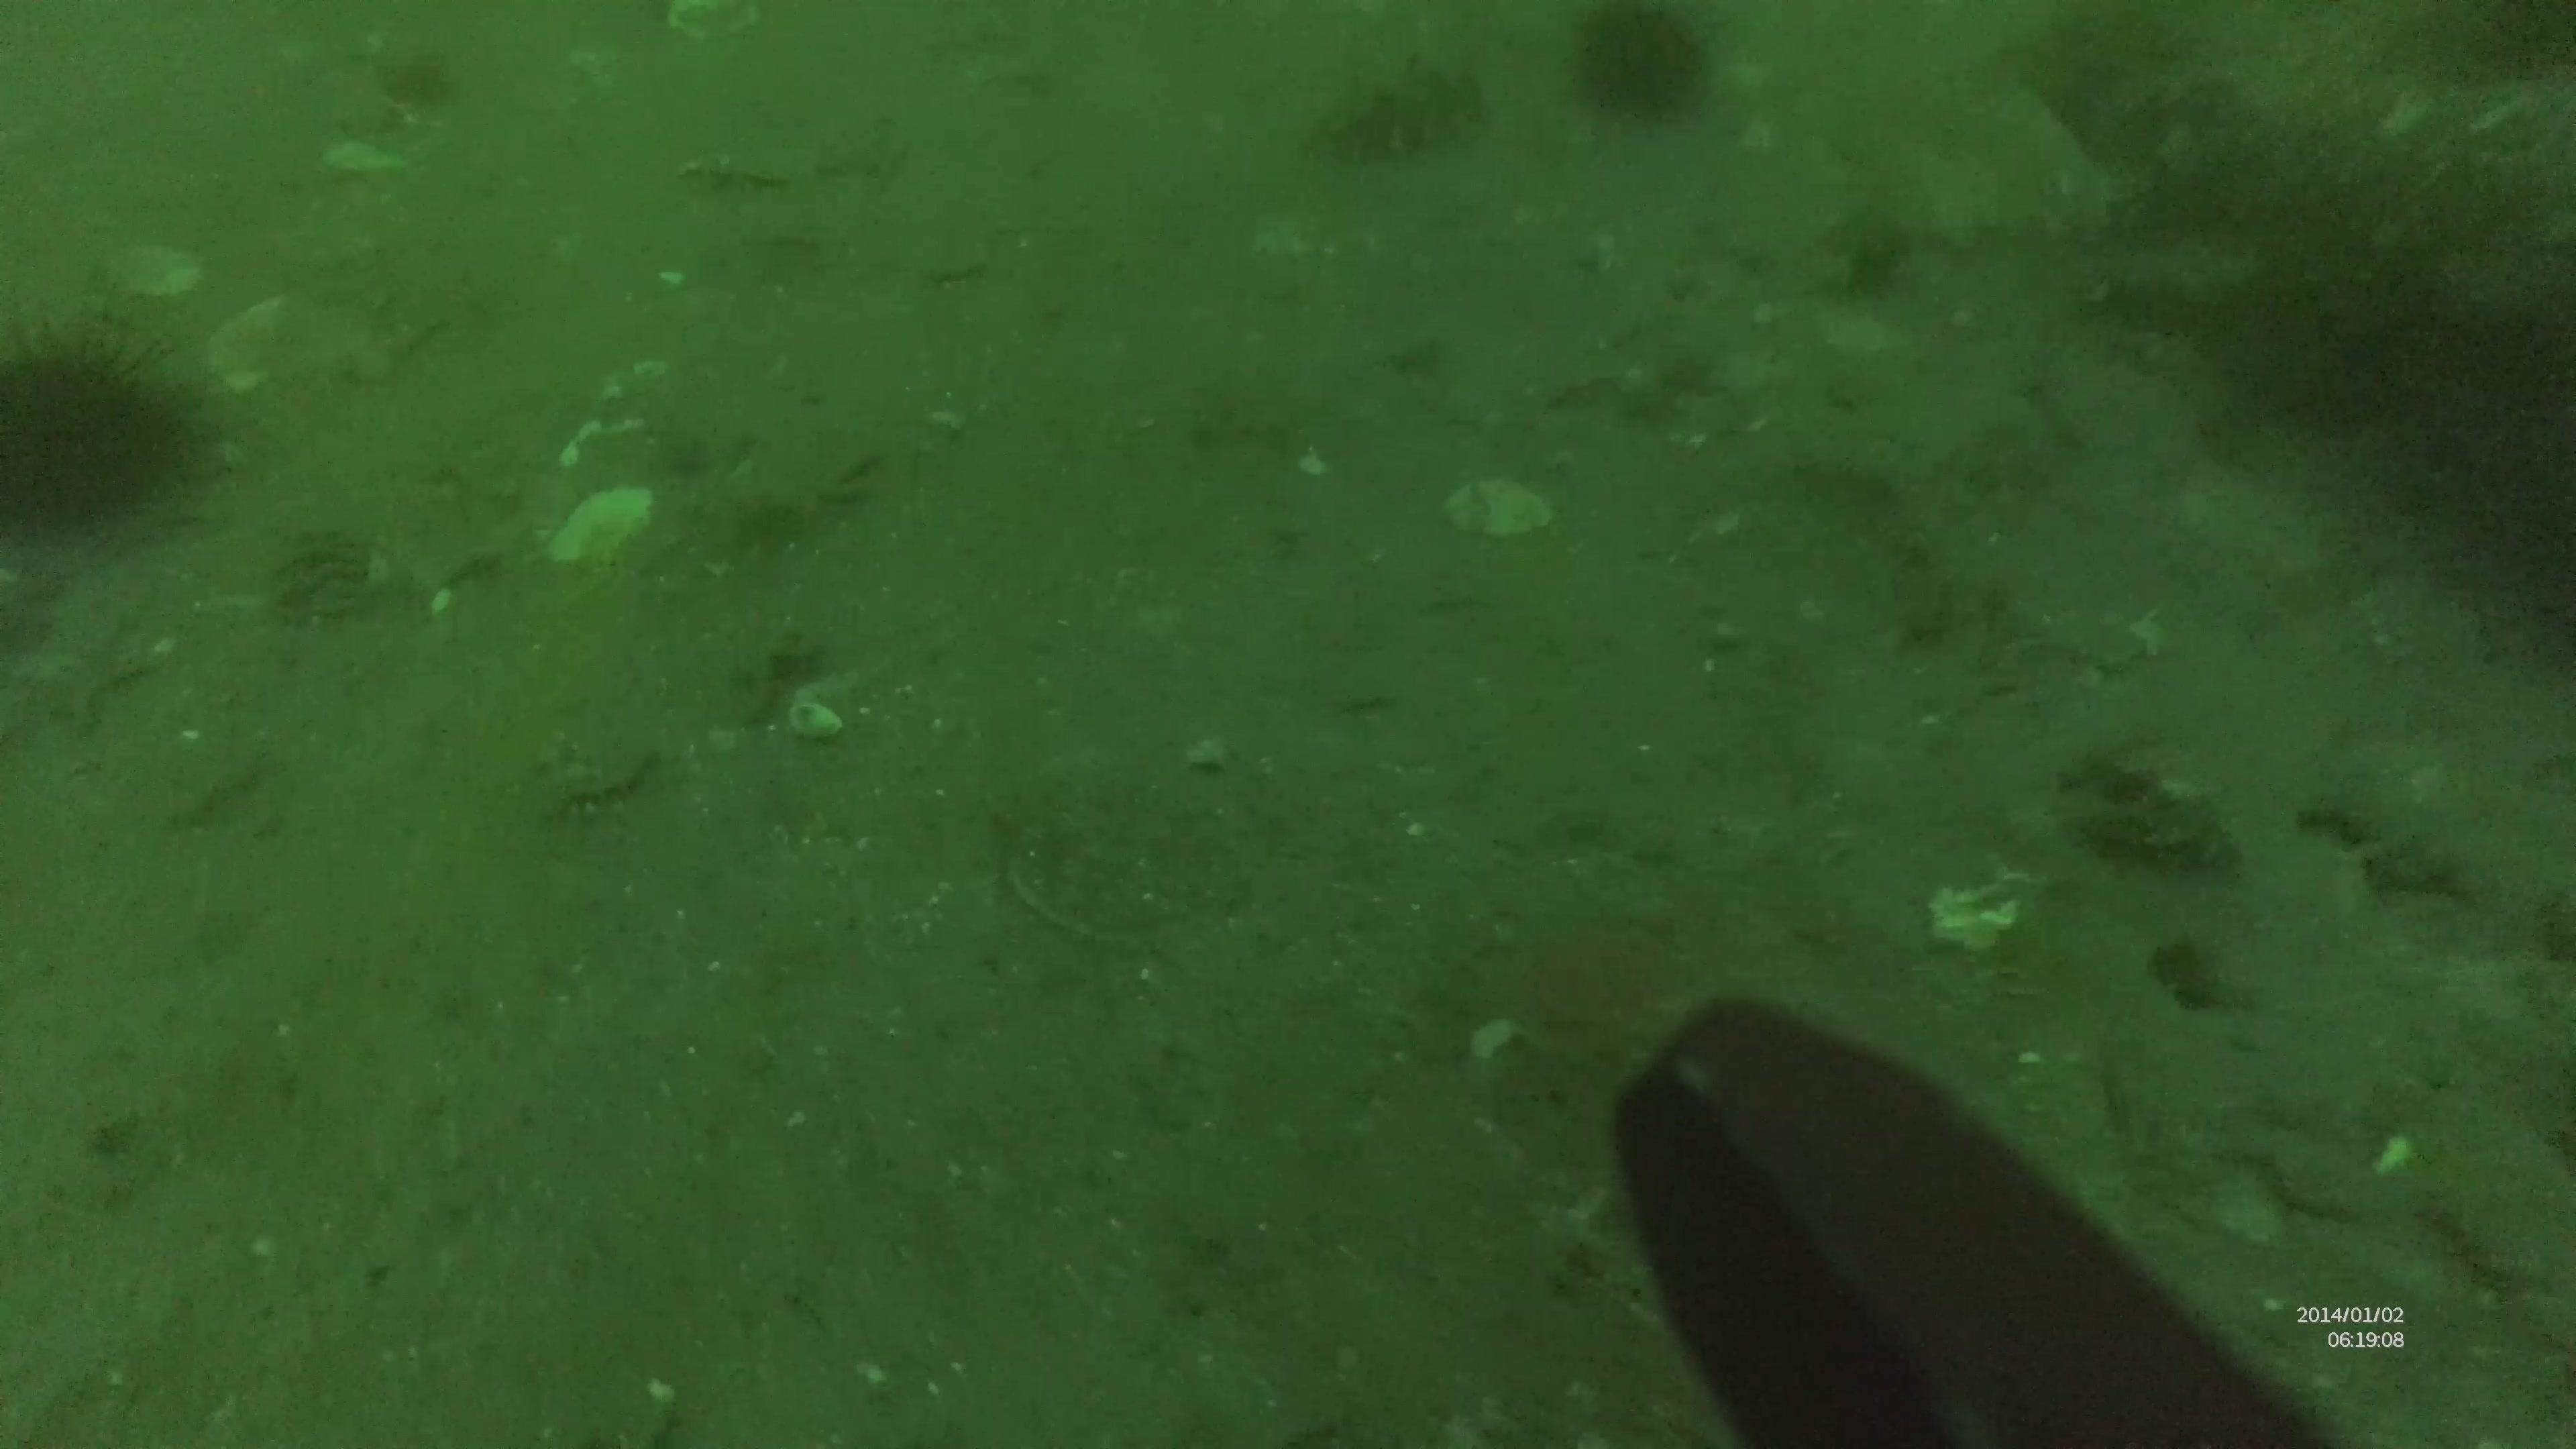echinus: (2, 317, 219, 545), (1560, 4, 1721, 131)
holothurian: (1313, 50, 1493, 170)
scallop: (994, 787, 1269, 962)
